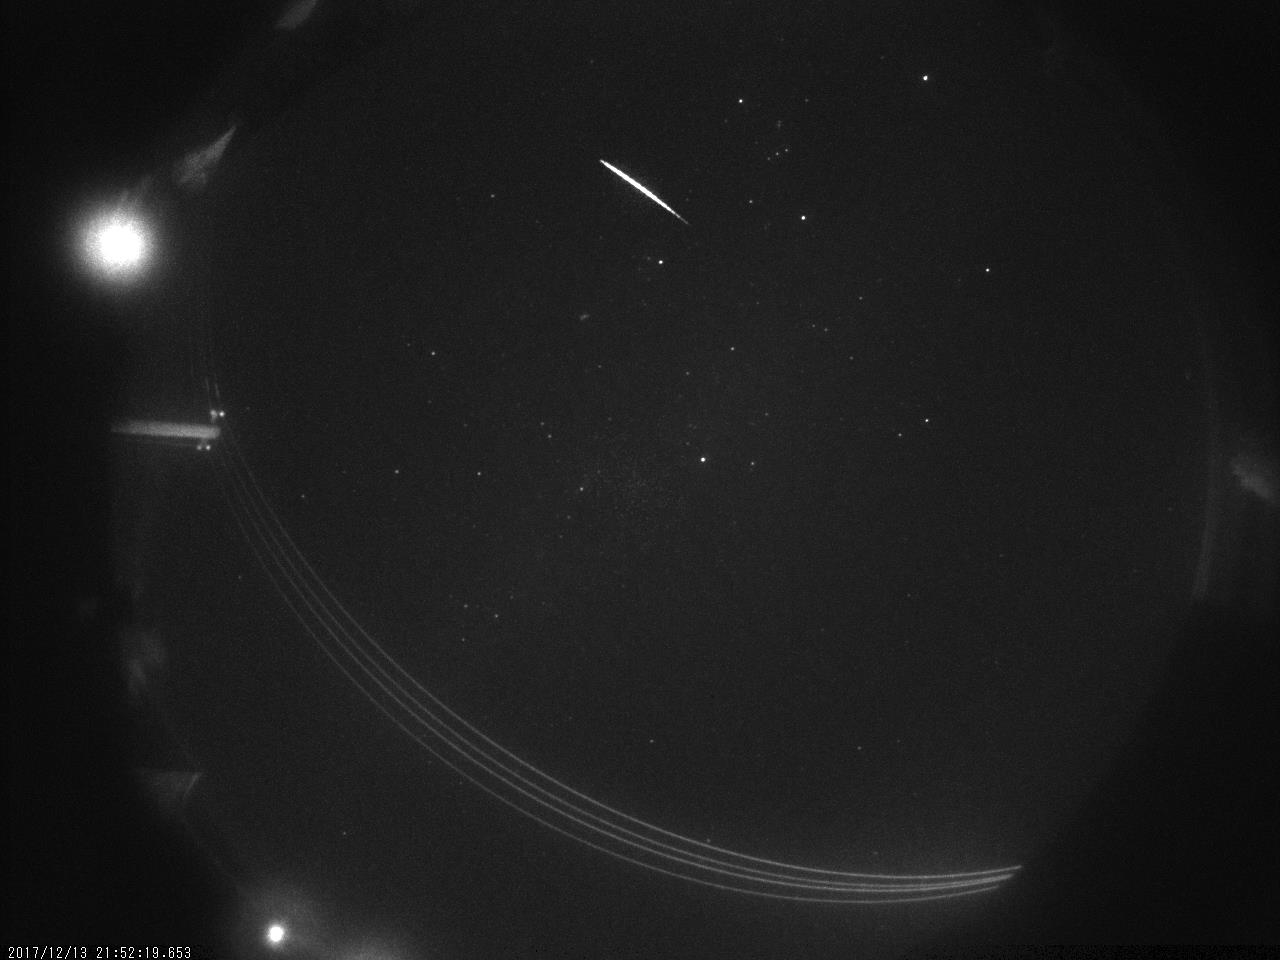meteor: (596, 150, 694, 235)
